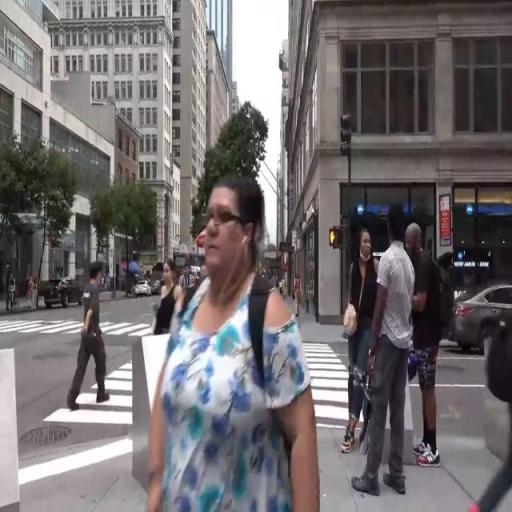person: (167, 188, 318, 512), (370, 202, 409, 512), (404, 221, 443, 478), (67, 261, 121, 440), (347, 228, 375, 483), (158, 257, 191, 336), (32, 276, 45, 317), (296, 271, 306, 318), (10, 275, 22, 314)
